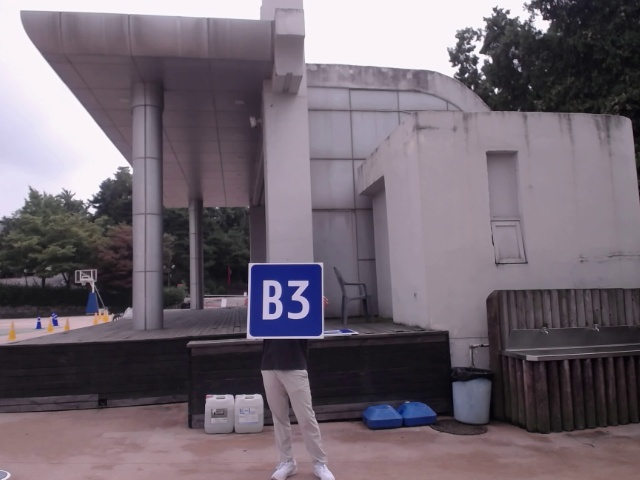delivery_b3: (248, 263, 322, 337)
